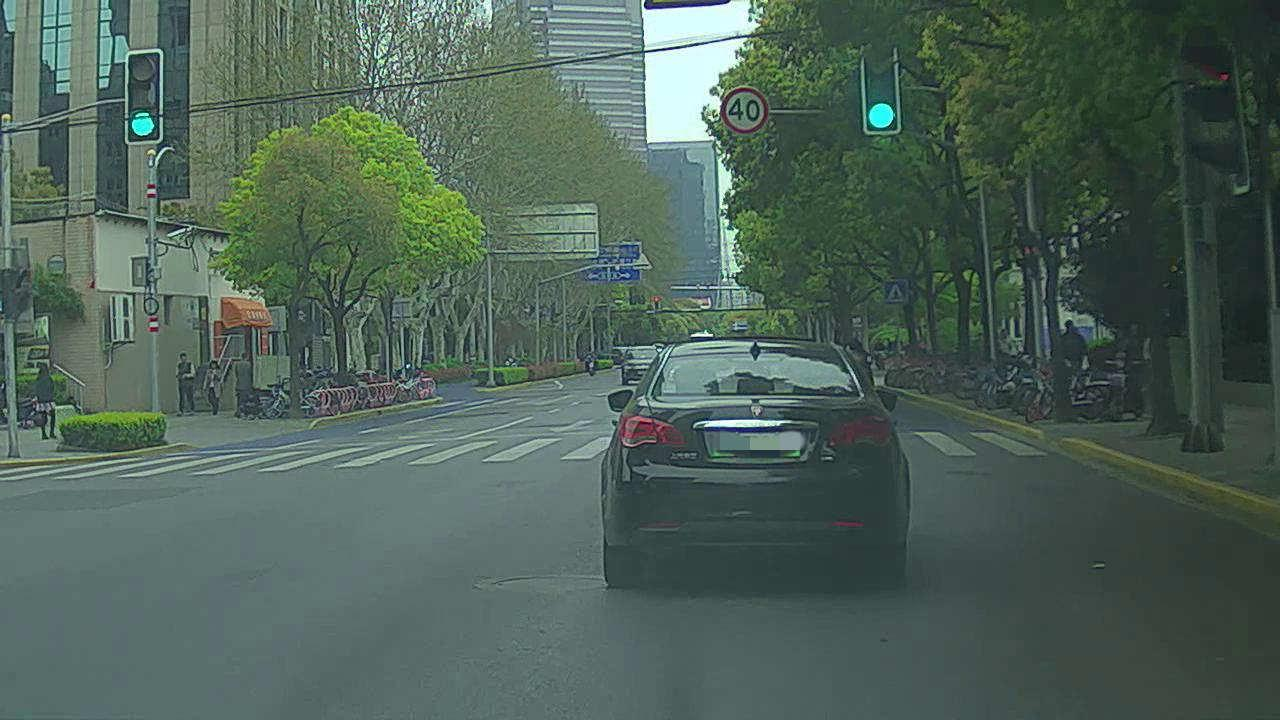traffic_light: (863, 45, 902, 135), (128, 53, 162, 143)
